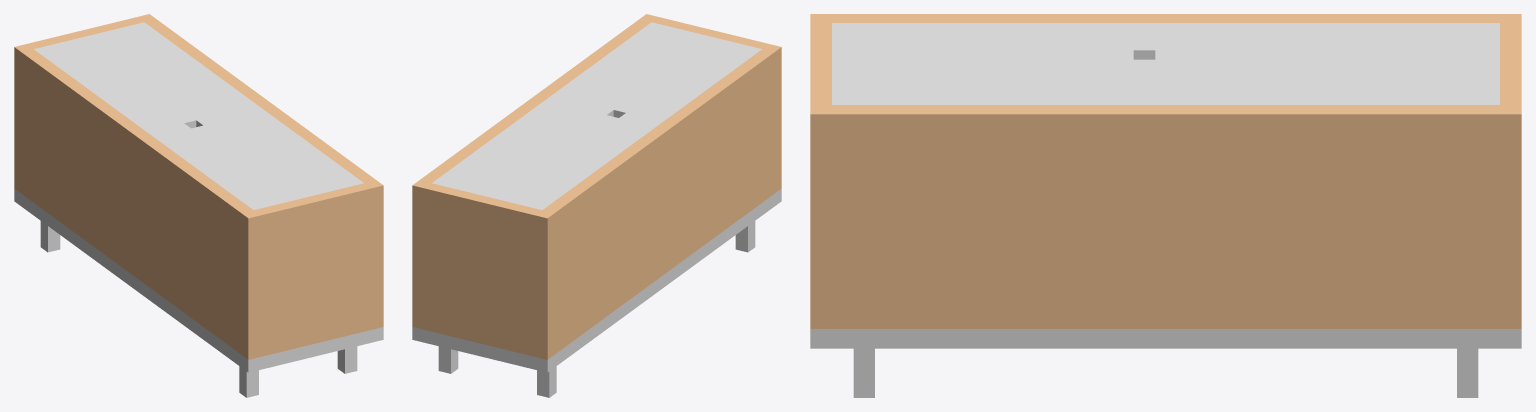
File: dice_2og-33-ne_qubo.obj
3 views of the same model, side by side, from view 1: azimuth 30°, elevation 25°; view 2: azimuth 150°, elevation 25°; view 3: azimuth 270°, elevation 25° (orthographic). The views are drawn at different scales.
Parts seen in each view (by area): view 1: ne_qubo; view 2: ne_qubo; view 3: ne_qubo.
Boxes of the visible parts, x1,y1,x2,y2 form: ne_qubo: (14, 14, 383, 397); ne_qubo: (412, 14, 781, 397); ne_qubo: (810, 14, 1521, 397).
Size of the model in its own units: 1.1 by 1.5 by 3.3.
1 material, 1 textured.
